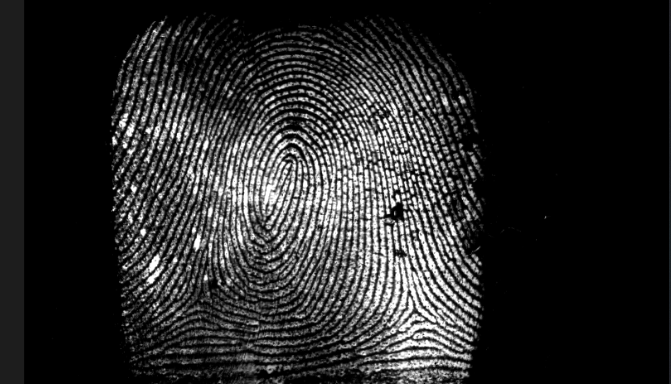nucelo: (265, 135, 309, 214)
verticilo: (398, 297, 431, 332), (179, 284, 213, 313)
